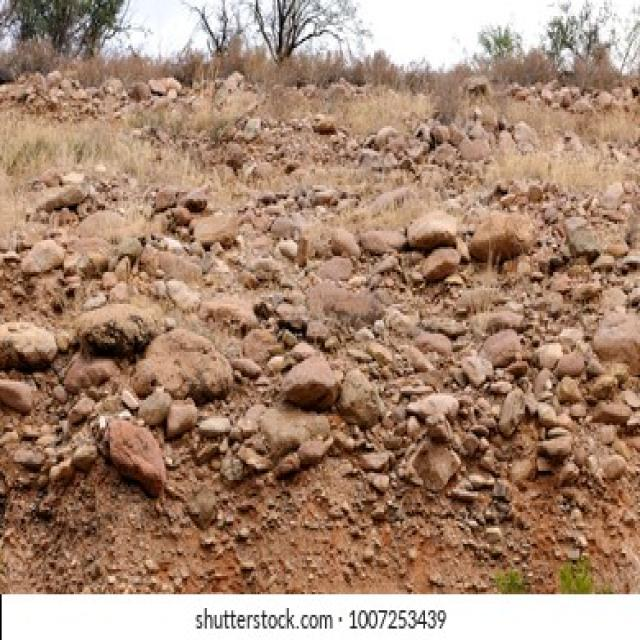Alluvial Soil: (50, 194, 615, 544)
